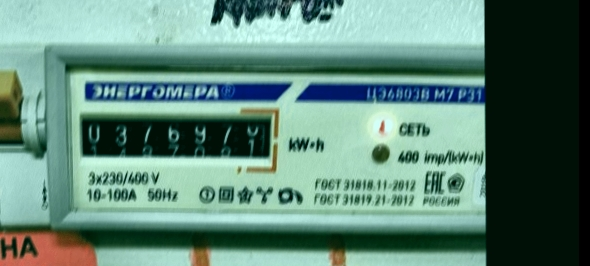0: (84, 120, 98, 142)
1: (242, 136, 254, 156)
3: (111, 123, 126, 145)
6: (163, 119, 178, 142)
7: (136, 120, 151, 143), (217, 121, 231, 145)
9: (189, 121, 204, 144)
screen: (68, 102, 279, 177)
